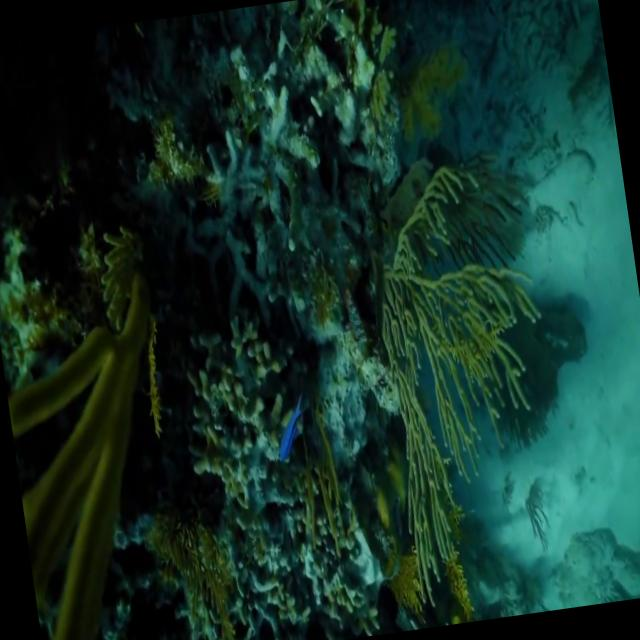fish: (264, 394, 316, 476)
